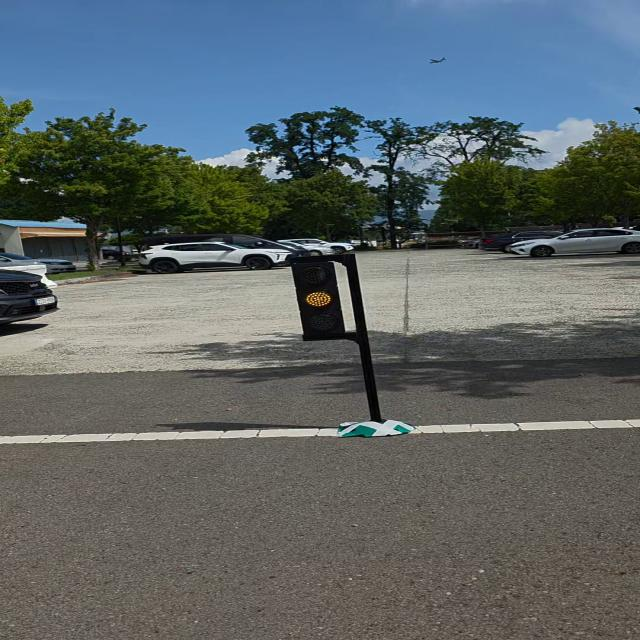yellow: (284, 256, 356, 336)
